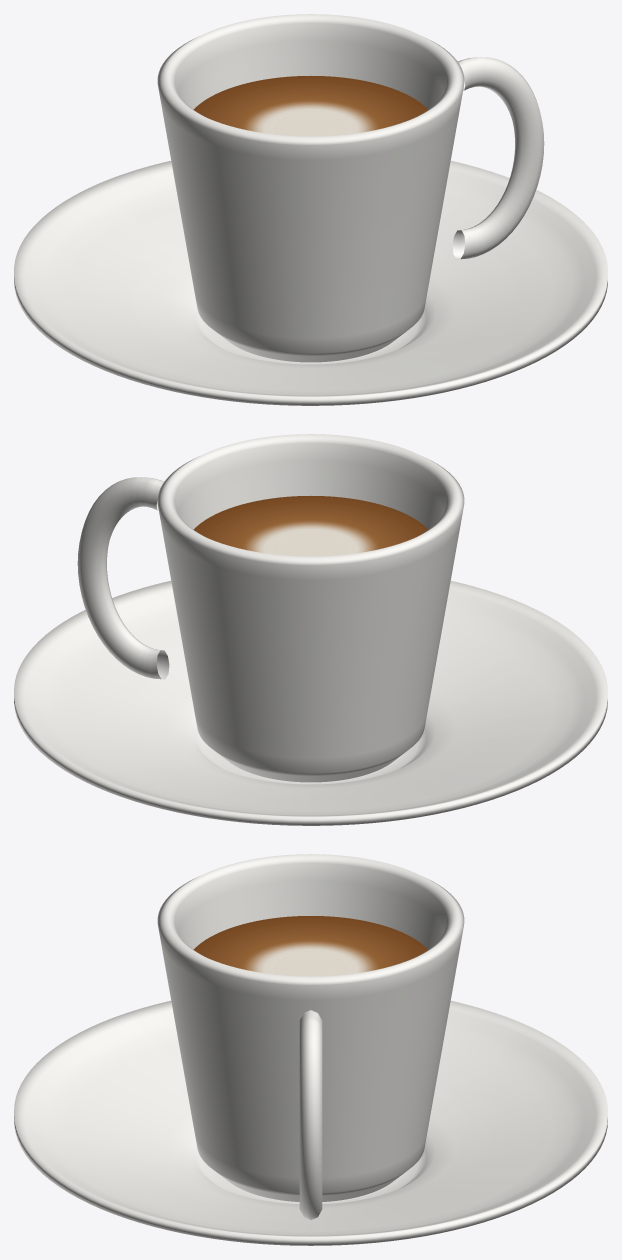
The model's file is macchiato.glb.
3 renders of one model, top to bottom at view 1: azimuth 30°, elevation 25°; view 2: azimuth 150°, elevation 25°; view 3: azimuth 270°, elevation 25°, orthographic.
Visible parts, largest first — view 1: ceramic, satin; view 2: ceramic, satin; view 3: ceramic, satin.
Boxes of the visible parts, x1,y1,x2,y2 form: ceramic: [14, 14, 607, 405]; satin: [193, 76, 428, 136]; ceramic: [14, 434, 607, 825]; satin: [193, 496, 428, 556]; ceramic: [14, 854, 607, 1245]; satin: [193, 916, 428, 976].
Bounding box in the file's own units: 0.12 × 0.0592 × 0.12.
2 materials, 2 textured.
